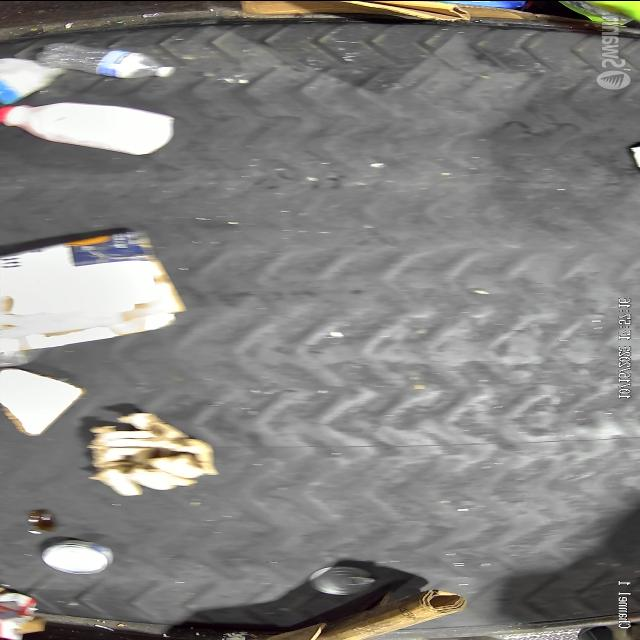can: (41, 538, 115, 574), (309, 566, 375, 594)
milk_jug: (0, 102, 176, 154)
plastic_bottle: (36, 42, 176, 78)
